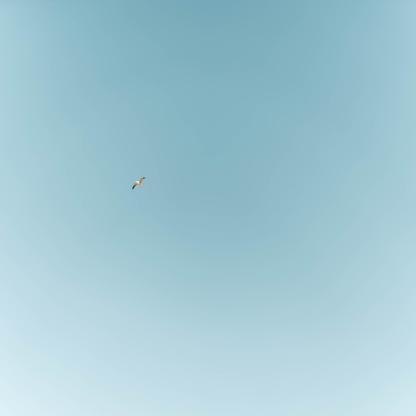bird: (131, 176, 147, 190)
